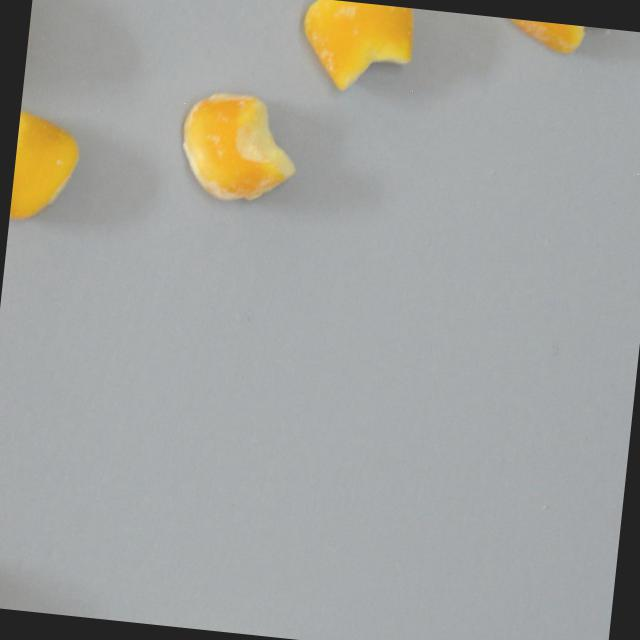no_canjicado: (9, 111, 85, 226)
pelicula: (174, 78, 289, 213), (303, 0, 421, 85), (494, 17, 621, 60)
